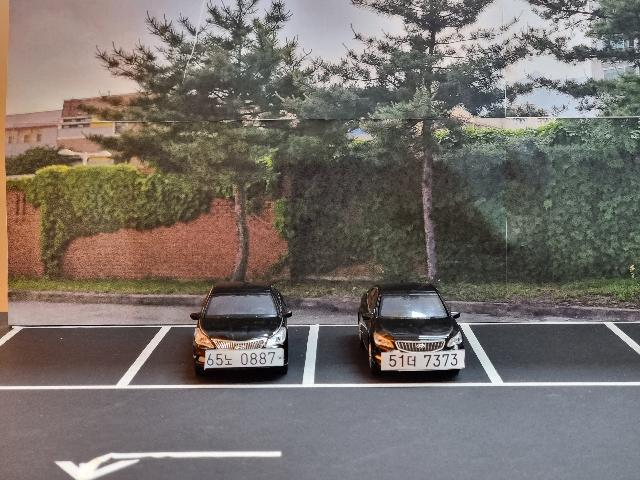empty: (472, 316, 640, 396), (1, 322, 161, 390)
occupied: (343, 272, 473, 384), (177, 269, 297, 380)
